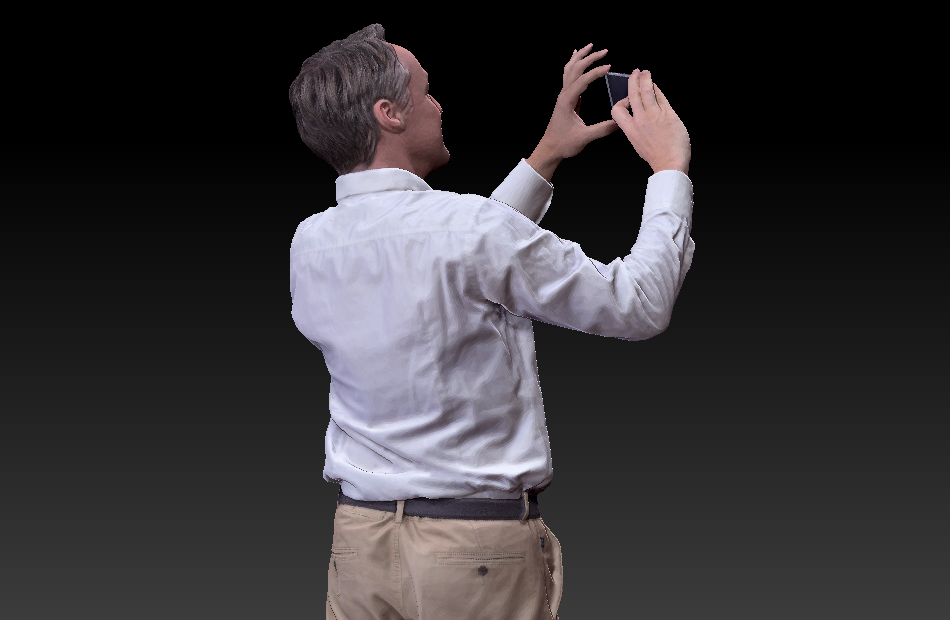taking photos: (537, 37, 694, 168)
